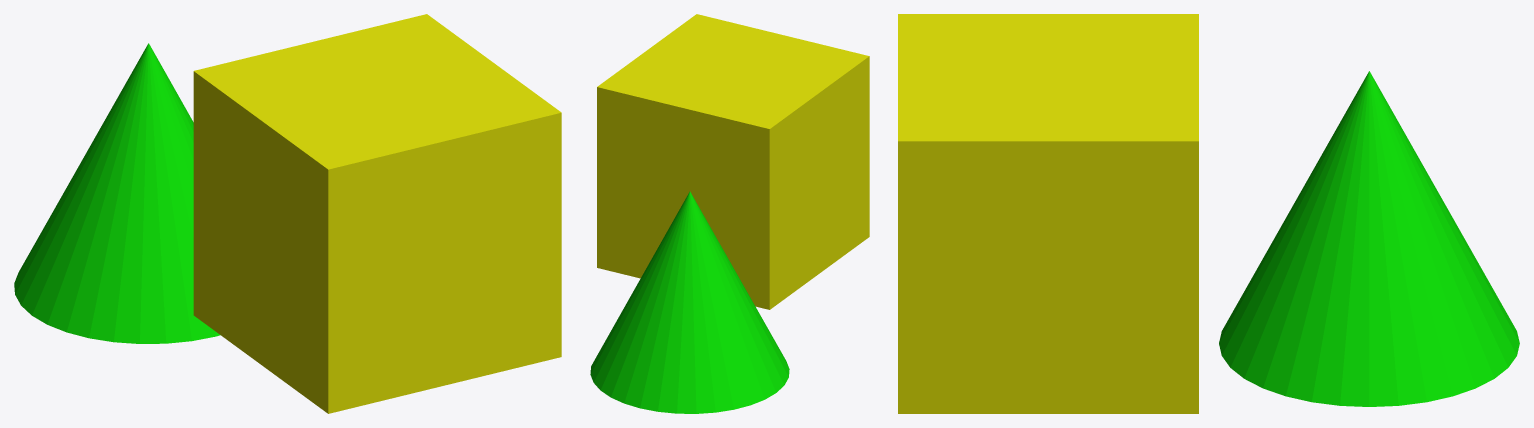
Rendered from cube_uuid.glb.
3 renders of one model, left to right at view 1: azimuth 30°, elevation 25°; view 2: azimuth 150°, elevation 25°; view 3: azimuth 270°, elevation 25°, orthographic. The views are drawn at different scales.
Visible parts, largest first — view 1: Cube, Cone; view 2: Cube, Cone; view 3: Cube, Cone.
Part boxes in pixels (box(x1,y1,x2,y2)): Cube: box(193, 14, 561, 413); Cone: box(14, 43, 220, 343); Cube: box(597, 14, 869, 309); Cone: box(590, 191, 789, 413); Cube: box(898, 14, 1198, 413); Cone: box(1219, 71, 1519, 406).
Bounding box in the file's own units: 2.73 × 2.29 × 4.13.
